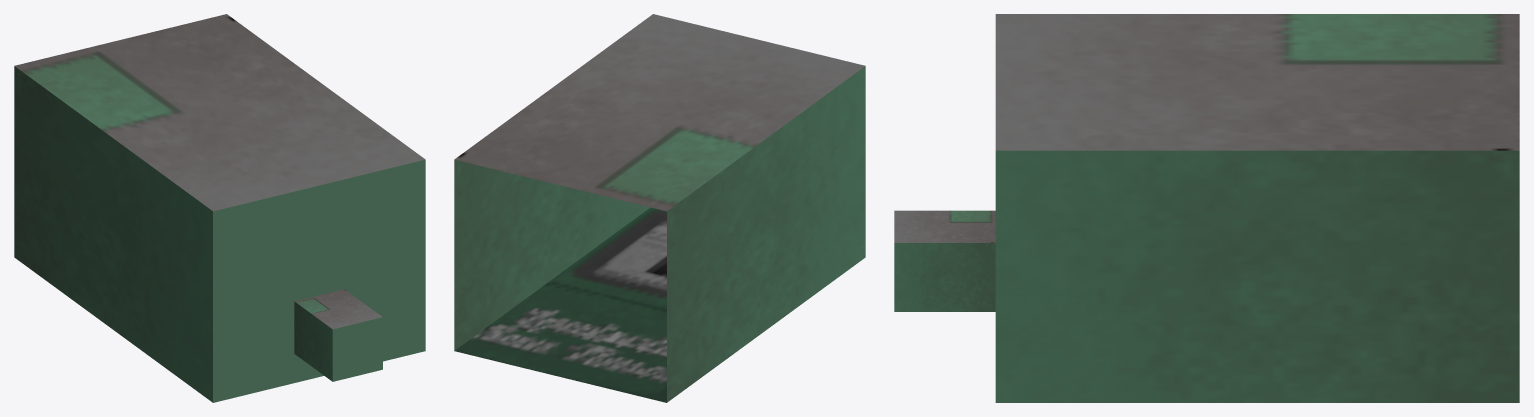
The model's file is pz_native_street_decoration_01_95.obj.
3 renders of one model, left to right at view 1: azimuth 30°, elevation 25°; view 2: azimuth 150°, elevation 25°; view 3: azimuth 270°, elevation 25°, orthographic. The views are drawn at different scales.
Visible parts, largest first — view 1: pz_native_street_decoration_01_95; view 2: pz_native_street_decoration_01_95; view 3: pz_native_street_decoration_01_95.
Part boxes in pixels (x1,y1,x2,y2): pz_native_street_decoration_01_95: (14,14,425,402); pz_native_street_decoration_01_95: (454,14,865,402); pz_native_street_decoration_01_95: (894,14,1519,402).
Bounding box in the file's own units: 0.7808 × 0.6723 × 1.51.
Materials: 1 (1 with a texture image).
